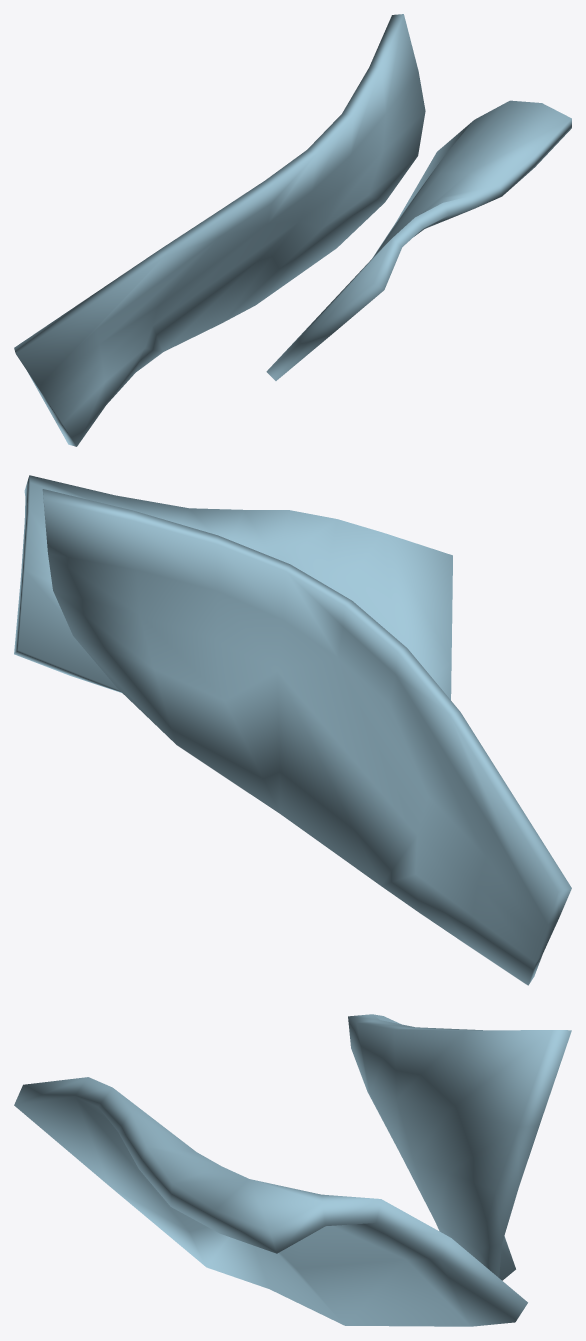
The model's file is articulacoes-talocalcaneal-interosseous-ligament-r.glb.
3 views of the same model, one above another, from view 1: azimuth 30°, elevation 25°; view 2: azimuth 150°, elevation 25°; view 3: azimuth 270°, elevation 25° (orthographic). The views are drawn at different scales.
Parts seen in each view (by area): view 1: Talocalcaneal interosseous ligament.r; view 2: Talocalcaneal interosseous ligament.r; view 3: Talocalcaneal interosseous ligament.r.
Boxes of the visible parts, x1,y1,x2,y2 form: Talocalcaneal interosseous ligament.r: (14,14,571,446); Talocalcaneal interosseous ligament.r: (14,475,571,985); Talocalcaneal interosseous ligament.r: (14,1014,571,1326).
Bounding box in the file's own units: 0.021 × 0.0131 × 0.0114.
